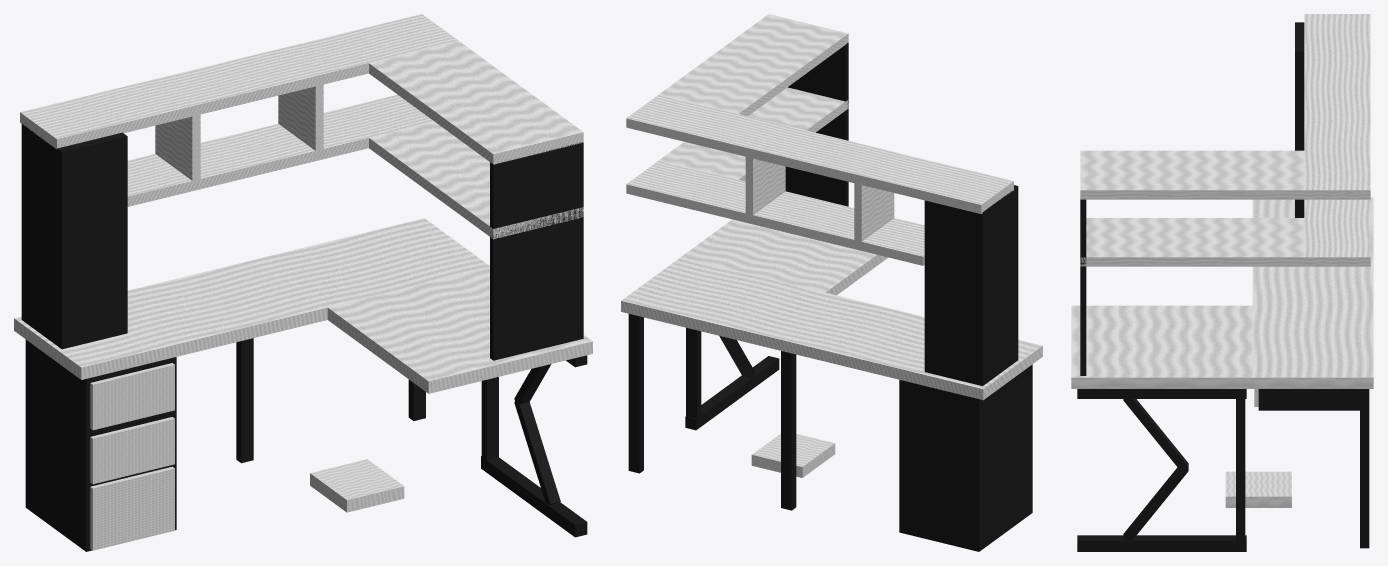
3 views of the same model, side by side, from view 1: azimuth 30°, elevation 25°; view 2: azimuth 150°, elevation 25°; view 3: azimuth 270°, elevation 25° (orthographic). The views are drawn at different scales.
Visible parts, largest first — view 1: 1 main_desktop, 14 left_hutch_frame, 18 top_hutch_back_upper_shelf, 23 right_pegboard, 2 return_desktop, 20 top_hutch_right_upper_shelf, 3 drawer_cabinet_body, 17 top_hutch_back_lower_shelf, 19 top_hutch_right_lower_shelf, 6 drawer_bottom, 4 drawer_top, 5 drawer_middle (+7 smaller); view 2: 1 main_desktop, 3 drawer_cabinet_body, 14 left_hutch_frame, 18 top_hutch_back_upper_shelf, 17 top_hutch_back_lower_shelf, 20 top_hutch_right_upper_shelf, 2 return_desktop, 19 top_hutch_right_lower_shelf, 23 right_pegboard, 13 back_support_post_corner, 12 back_support_post_left, 24 cpu_stand (+5 smaller); view 3: 1 main_desktop, 2 return_desktop, 18 top_hutch_back_upper_shelf, 20 top_hutch_right_upper_shelf, 19 top_hutch_right_lower_shelf, 17 top_hutch_back_lower_shelf, 8 right_leg_bottom_bar, 3 drawer_cabinet_body, 24 cpu_stand, 7 right_leg_top_bar, 13 back_support_post_corner, 14 left_hutch_frame (+4 smaller).
Boxes of the visible parts, <box> form: 1 main_desktop: <box>14,218,489,379</box>; 14 left_hutch_frame: <box>21,123,127,349</box>; 18 top_hutch_back_upper_shelf: <box>20,14,458,149</box>; 23 right_pegboard: <box>490,142,583,360</box>; 2 return_desktop: <box>327,268,592,393</box>; 20 top_hutch_right_upper_shelf: <box>369,41,583,164</box>; 3 drawer_cabinet_body: <box>25,339,176,551</box>; 17 top_hutch_back_lower_shelf: <box>127,94,434,206</box>; 19 top_hutch_right_lower_shelf: <box>369,121,583,239</box>; 6 drawer_bottom: <box>90,466,174,550</box>; 4 drawer_top: <box>90,363,174,430</box>; 5 drawer_middle: <box>90,417,174,484</box>; 1 main_desktop: <box>621,257,1042,400</box>; 3 drawer_cabinet_body: <box>899,364,1032,551</box>; 14 left_hutch_frame: <box>924,185,1018,385</box>; 18 top_hutch_back_upper_shelf: <box>626,94,1013,213</box>; 17 top_hutch_back_lower_shelf: <box>626,160,924,265</box>; 20 top_hutch_right_upper_shelf: <box>659,14,848,115</box>; 2 return_desktop: <box>681,219,887,295</box>; 19 top_hutch_right_lower_shelf: <box>659,87,848,181</box>; 23 right_pegboard: <box>785,42,848,206</box>; 13 back_support_post_corner: <box>628,314,643,473</box>; 12 back_support_post_left: <box>781,351,796,510</box>; 24 cpu_stand: <box>751,433,835,477</box>; 1 main_desktop: <box>1252,197,1373,388</box>; 2 return_desktop: <box>1071,305,1252,388</box>; 18 top_hutch_back_upper_shelf: <box>1304,14,1370,199</box>; 20 top_hutch_right_upper_shelf: <box>1080,150,1304,199</box>; 19 top_hutch_right_lower_shelf: <box>1080,218,1304,266</box>; 17 top_hutch_back_lower_shelf: <box>1304,199,1370,266</box>; 8 right_leg_bottom_bar: <box>1077,535,1246,551</box>; 3 drawer_cabinet_body: <box>1258,389,1359,410</box>; 24 cpu_stand: <box>1225,471,1291,507</box>; 7 right_leg_top_bar: <box>1077,389,1246,398</box>; 13 back_support_post_corner: <box>1360,389,1369,548</box>; 14 left_hutch_frame: <box>1295,22,1304,217</box>.
Bounding box in the file's own units: 1.07 × 1 × 0.76.
Materials: 3 (2 with a texture image).
